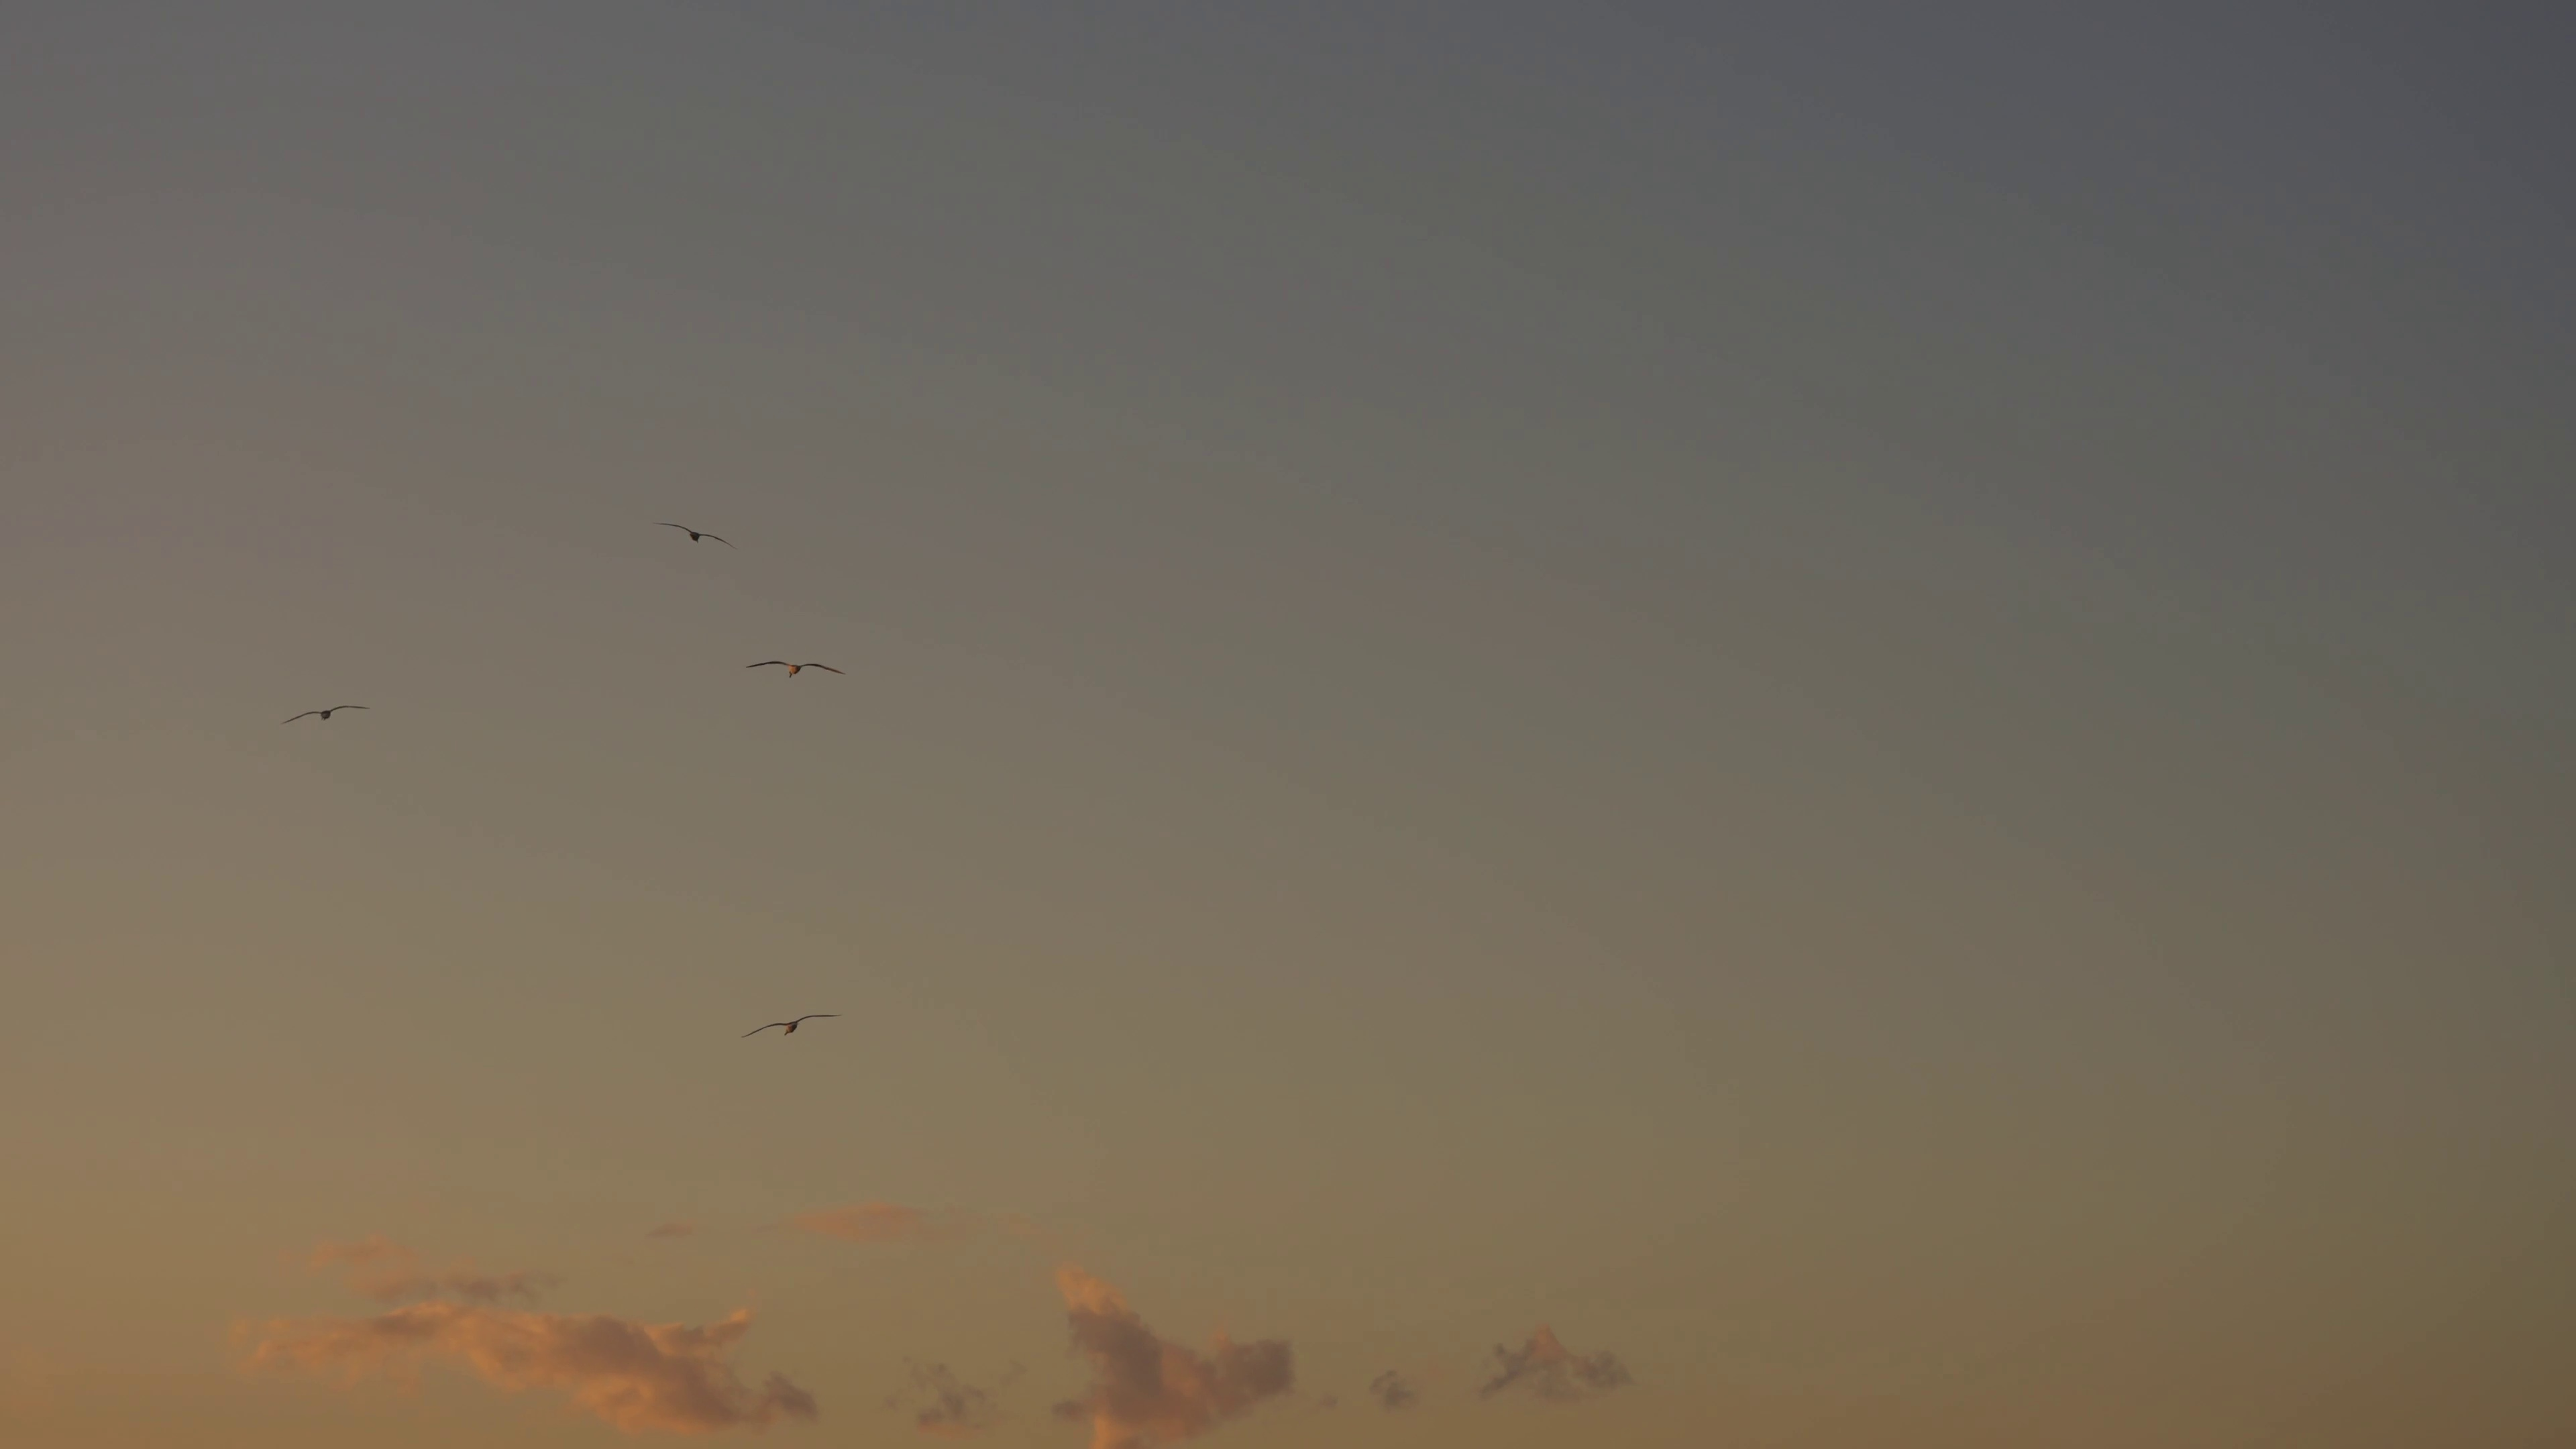bird: (743, 1012, 840, 1039), (743, 658, 840, 681), (658, 517, 731, 547), (285, 701, 363, 727)
